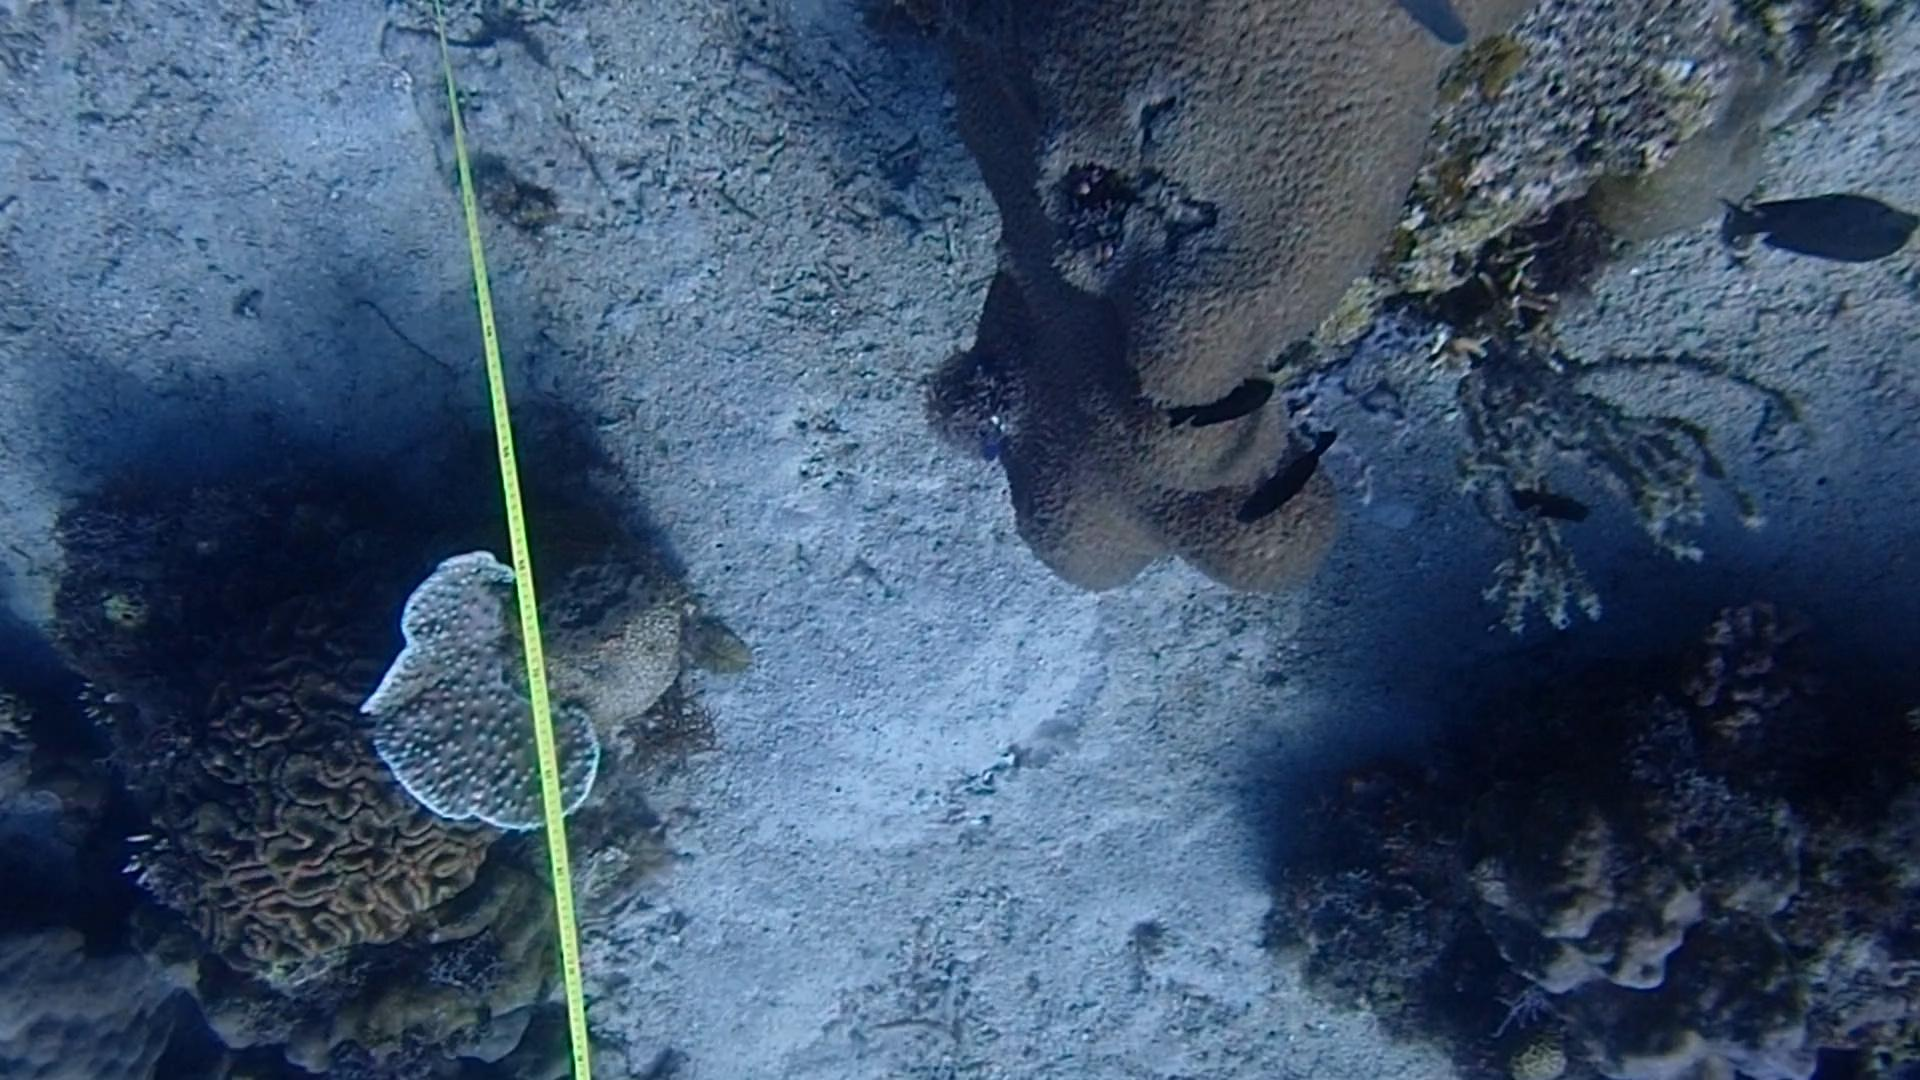Big Dark Blue Fish: (1716, 178, 1917, 280)
Dark Fish: (1163, 371, 1298, 442), (1241, 443, 1341, 538), (1501, 468, 1602, 529)
